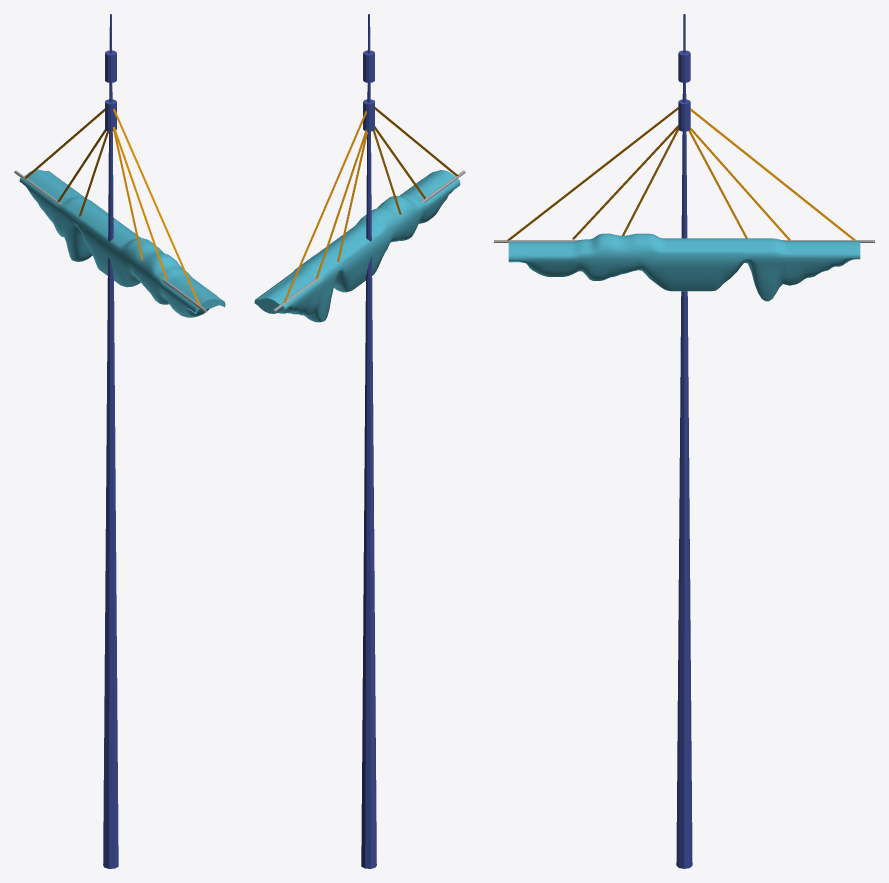
File: ship_1.fbx
3 views of the same model, side by side, from view 1: azimuth 30°, elevation 25°; view 2: azimuth 150°, elevation 25°; view 3: azimuth 270°, elevation 25° (orthographic).
Visible parts, largest first — view 1: ship:pCylinder11; view 2: ship:pCylinder11; view 3: ship:pCylinder11.
Boxes of the visible parts, <box> form: ship:pCylinder11: <box>14,14,225,868</box>; ship:pCylinder11: <box>254,14,465,868</box>; ship:pCylinder11: <box>494,14,874,868</box>.
Bounding box in the file's own units: 96.71 × 2330 × 945.
